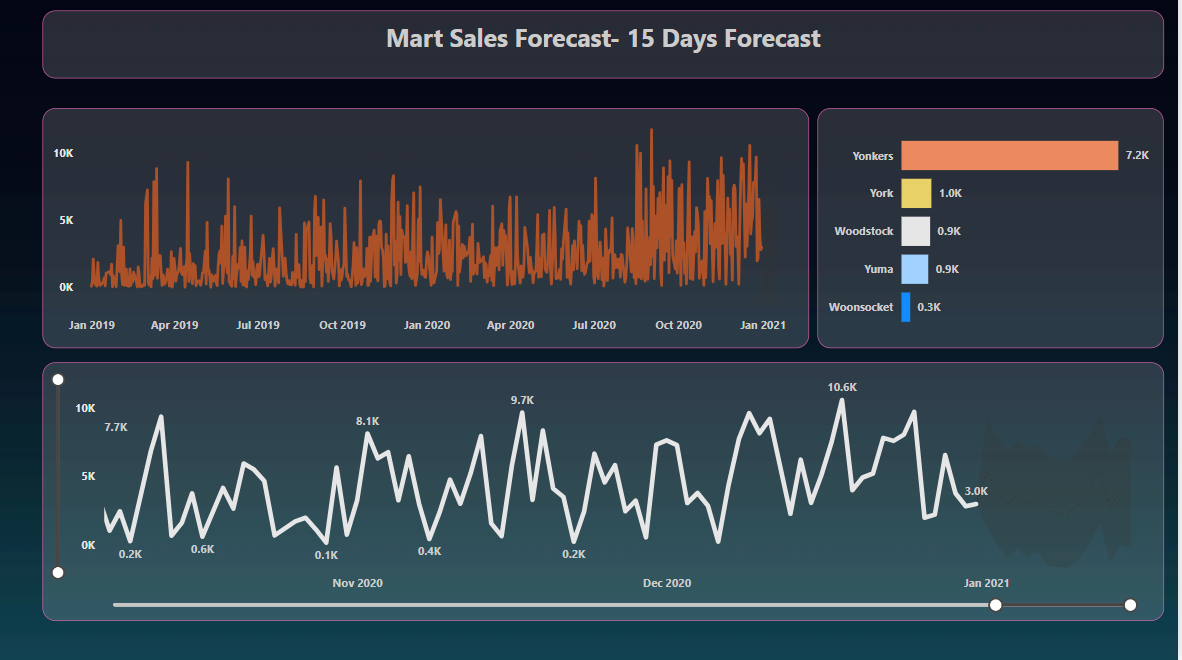

The dashboard page shown, as its layout file describes it:
{"tool":"powerbi","page":{"name":"Page 2","canvas":[1280,720],"ordinal":1},"visuals":[{"type":"lineChart","fields":{"Y":["Sum(SuperStore_Sales_Dataset.Sales)"],"Category":["SuperStore_Sales_Dataset.Order Date"]},"box":[50,398.3,1215,280],"z":0},{"type":"lineChart","fields":{"Y":["Sum(SuperStore_Sales_Dataset.Sales)"],"Category":["SuperStore_Sales_Dataset.Order Date"]},"box":[50,123.3,830,260],"z":1000},{"type":"textbox","box":[50,16.7,1215,73.3],"z":2000},{"type":"clusteredBarChart","fields":{"Y":["Sum(SuperStore_Sales_Dataset.Sales)"],"Category":["SuperStore_Sales_Dataset.City"]},"box":[890,123.3,375,260],"z":3000}]}

Visuals, with their boxes in screenshot pixels (x1, y1, x2, y2), scaled from the page's 1280x720 canvas onto the 1182x660 screenshot:
lineChart - Sum(SuperStore_Sales_Dataset.Sales) x SuperStore_Sales_Dataset.Order Date: 46:365:1168:622
lineChart - Sum(SuperStore_Sales_Dataset.Sales) x SuperStore_Sales_Dataset.Order Date: 46:113:813:351
textbox: 46:15:1168:82
clusteredBarChart - Sum(SuperStore_Sales_Dataset.Sales) x SuperStore_Sales_Dataset.City: 822:113:1168:351
